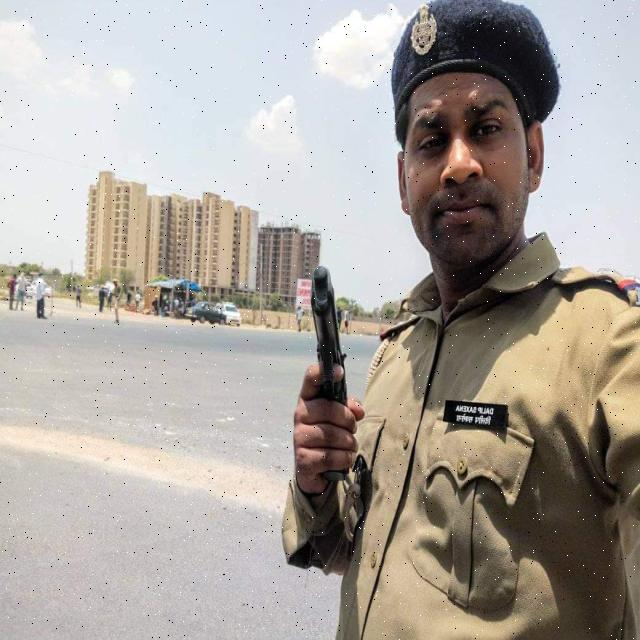gun: (302, 260, 359, 494)
